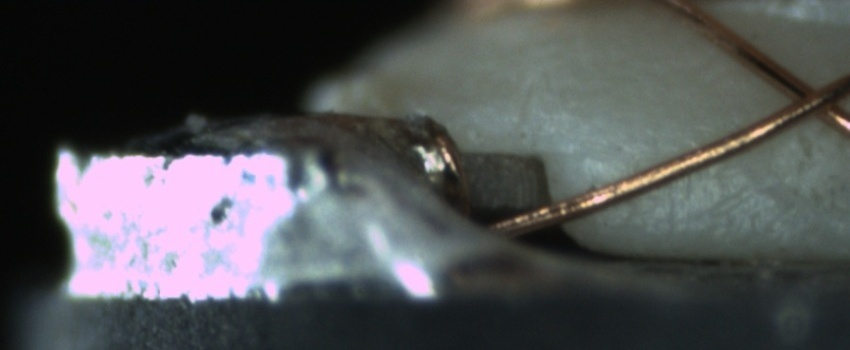CL: (765, 62, 848, 131)
TE: (407, 106, 473, 209)
